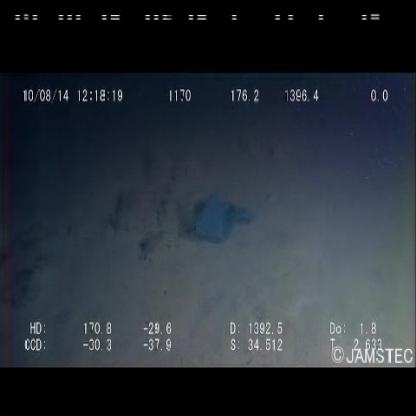Rác: (188, 191, 261, 247)
